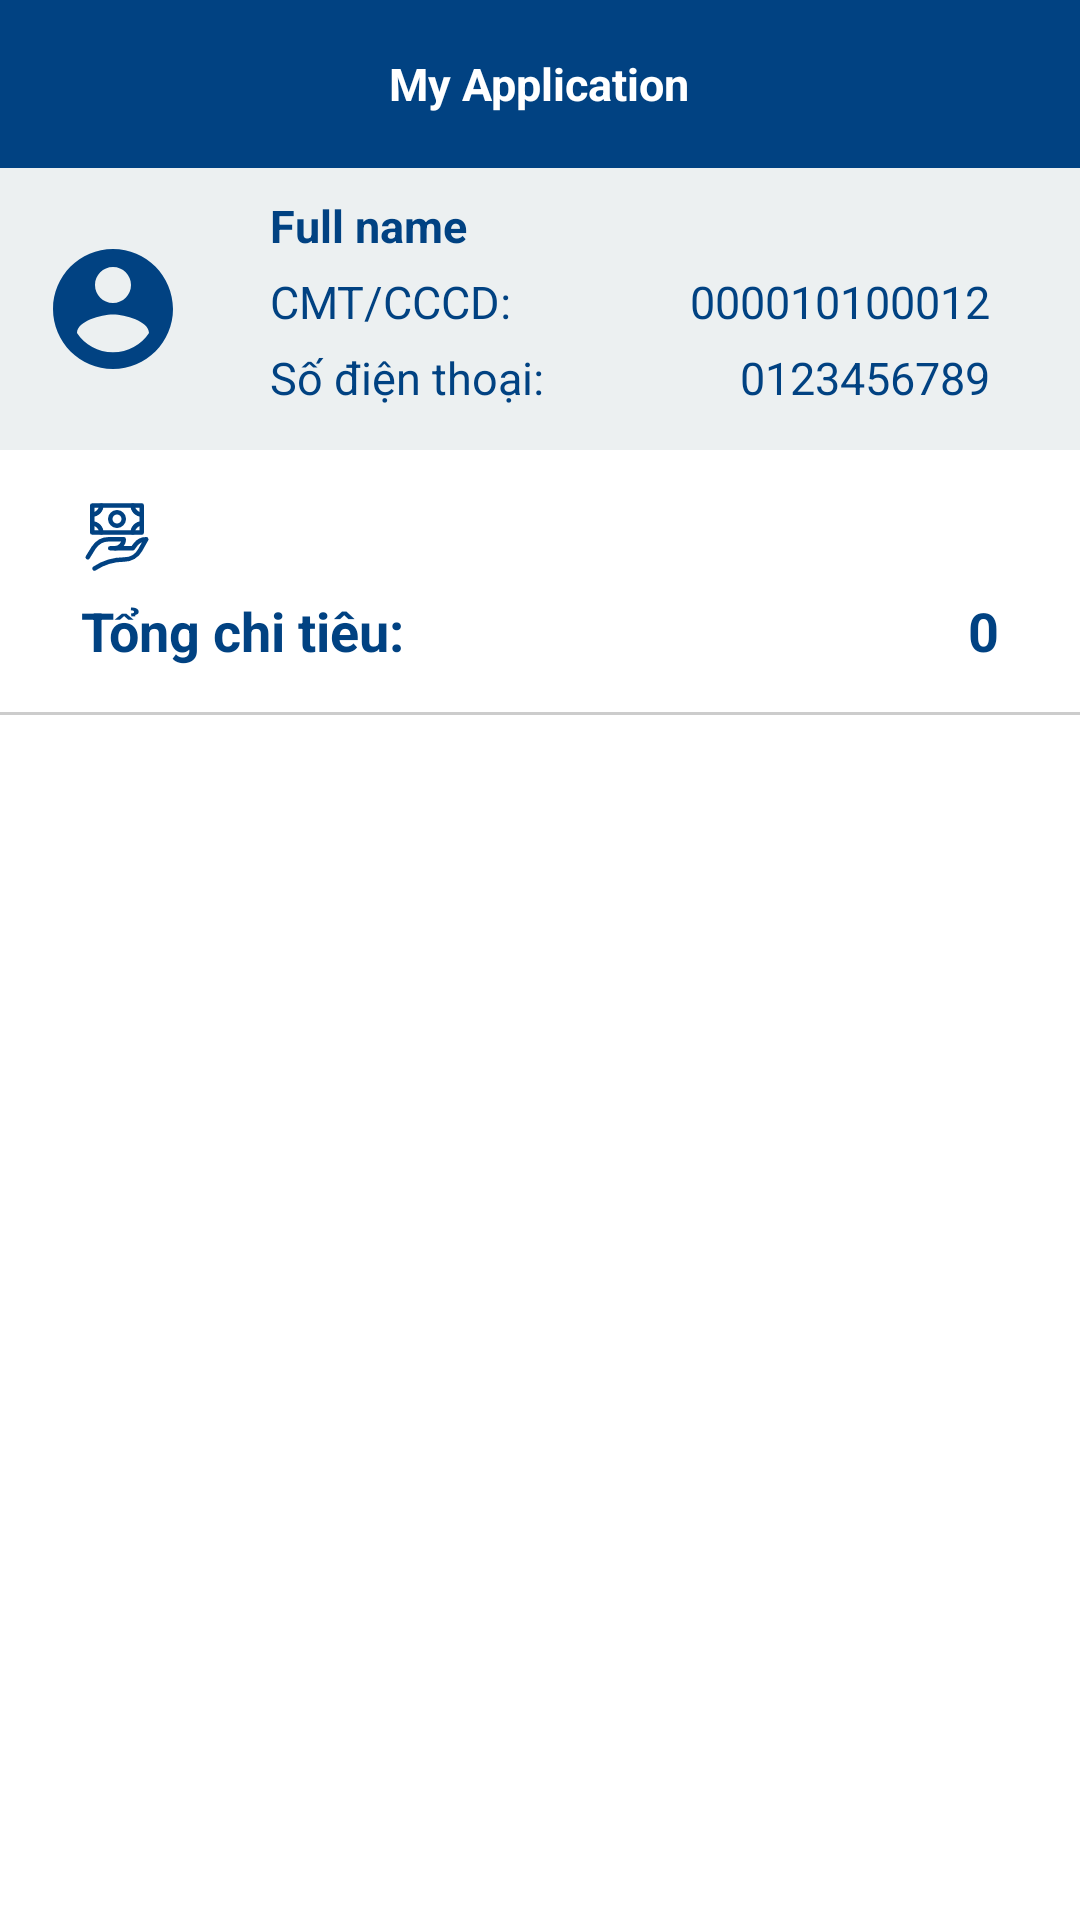

Locate icon controls on the screen. Image size 1080*1920, boxes as (x1, y1, x2, y2).
money report: (85, 503, 149, 571)
